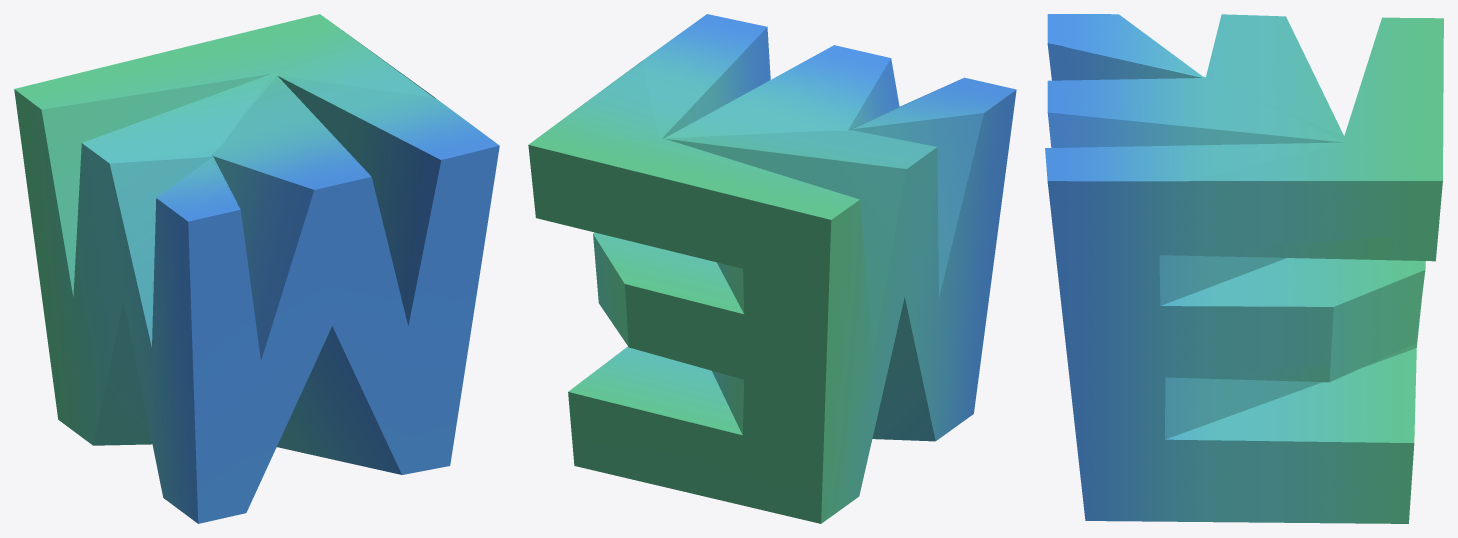
3 views of the same model, side by side, from view 1: azimuth 30°, elevation 25°; view 2: azimuth 150°, elevation 25°; view 3: azimuth 270°, elevation 25° (orthographic). The views are drawn at different scales.
Visible parts, largest first — view 1: Cube; view 2: Cube; view 3: Cube.
Part boxes in pixels (<box>): Cube: <box>14,14,499,523</box>; Cube: <box>528,14,1016,523</box>; Cube: <box>1045,14,1443,523</box>.
Bounding box in the file's own units: 2 × 2.01 × 2.02.
Materials: 1 (1 with a texture image).
